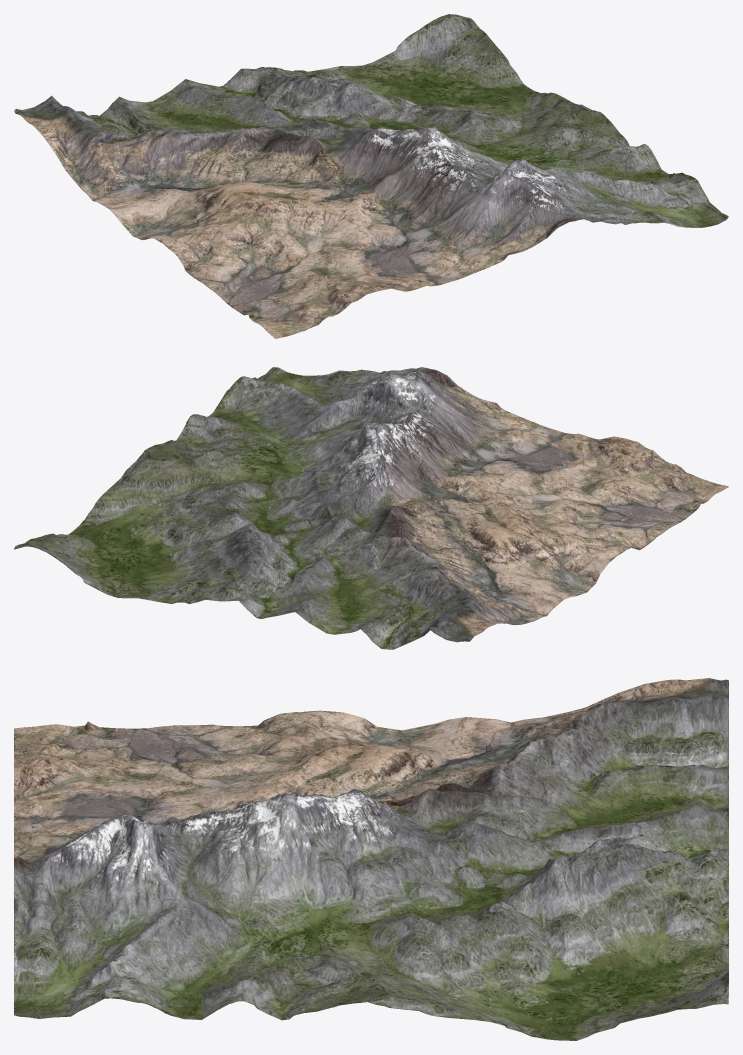
The model's file is Jotunheim_Mountain_Range.glb.
3 views of the same model, one above another, from view 1: azimuth 30°, elevation 25°; view 2: azimuth 150°, elevation 25°; view 3: azimuth 270°, elevation 25° (orthographic). The views are drawn at different scales.
Visible parts, largest first — view 1: Object_2; view 2: Object_2; view 3: Object_2.
Part boxes in pixels (x1,y1,x2,y2): Object_2: (14,14,728,338); Object_2: (14,367,728,649); Object_2: (14,678,728,1040).
Size of the model in its own units: 1 by 0.1744 by 1.
Materials: 1 (1 with a texture image).
